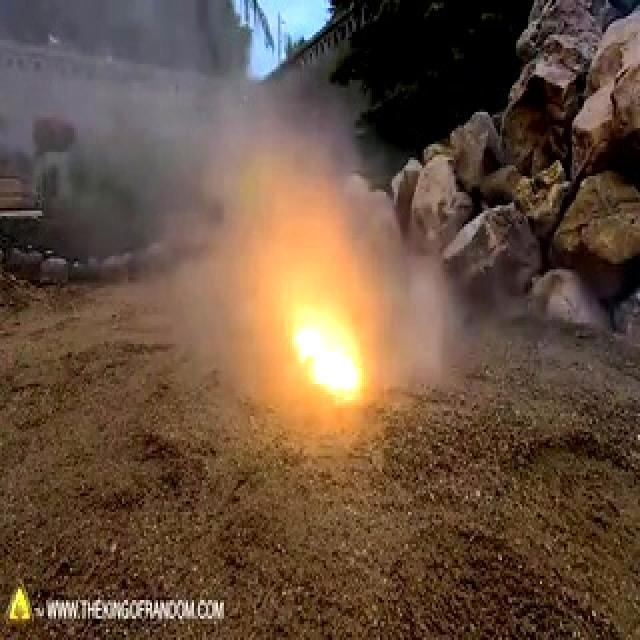Fire: (288, 303, 376, 402)
Smoke: (1, 1, 388, 296), (391, 258, 488, 390)
